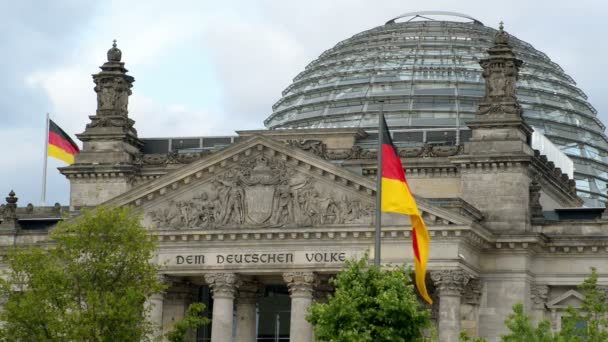Flag: (375, 115, 437, 309), (41, 113, 90, 167)
